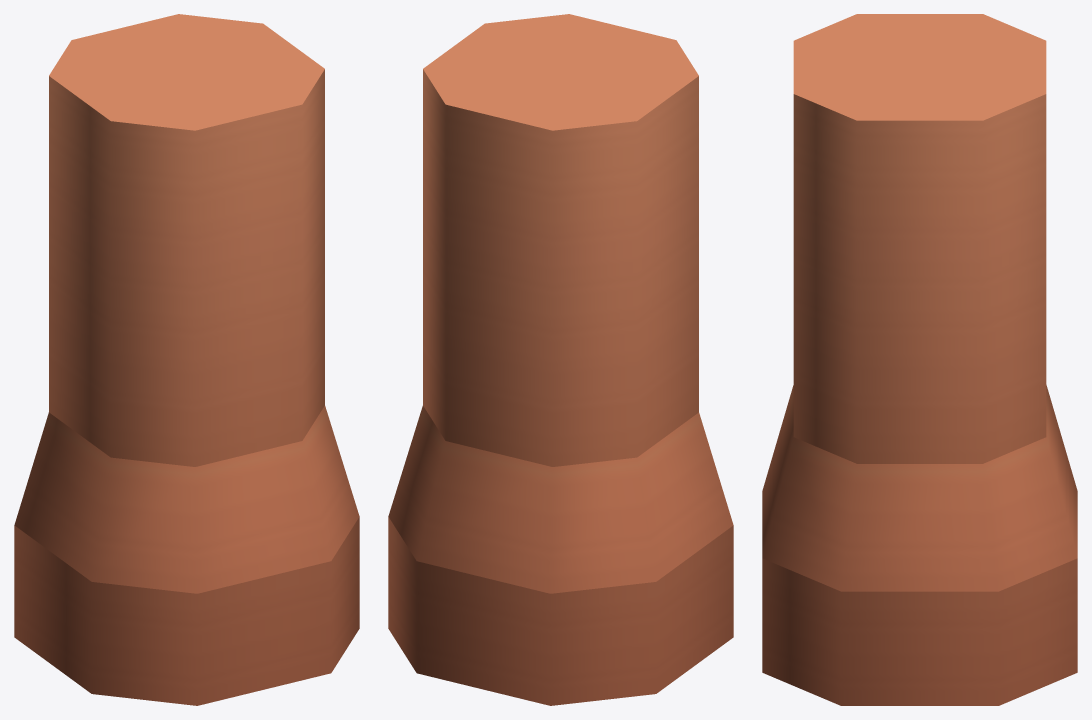
Rendered from support-bottom.glb.
3 views of the same model, side by side, from view 1: azimuth 30°, elevation 25°; view 2: azimuth 150°, elevation 25°; view 3: azimuth 270°, elevation 25° (orthographic). The views are drawn at different scales.
Visible parts, largest first — view 1: support-bottom; view 2: support-bottom; view 3: support-bottom.
Part boxes in pixels (box(x1,y1,x2,y2)): support-bottom: box(14, 14, 359, 705); support-bottom: box(388, 14, 733, 705); support-bottom: box(762, 14, 1077, 705).
Bounding box in the file's own units: 0.5 × 1 × 0.5.
1 material, 1 textured.
